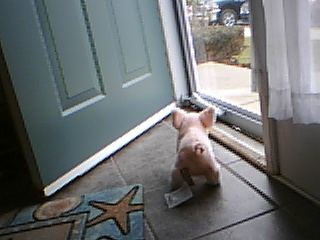piggy: (169, 105, 222, 189)
